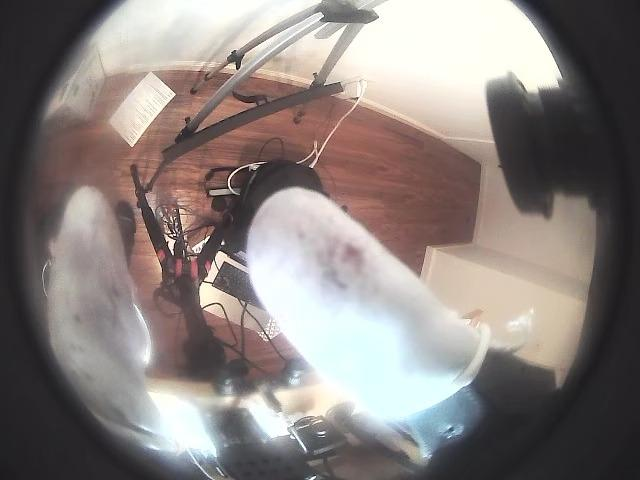gripper: (246, 186, 490, 418), (44, 186, 166, 435)
lense: (421, 0, 639, 479), (0, 0, 190, 479)
